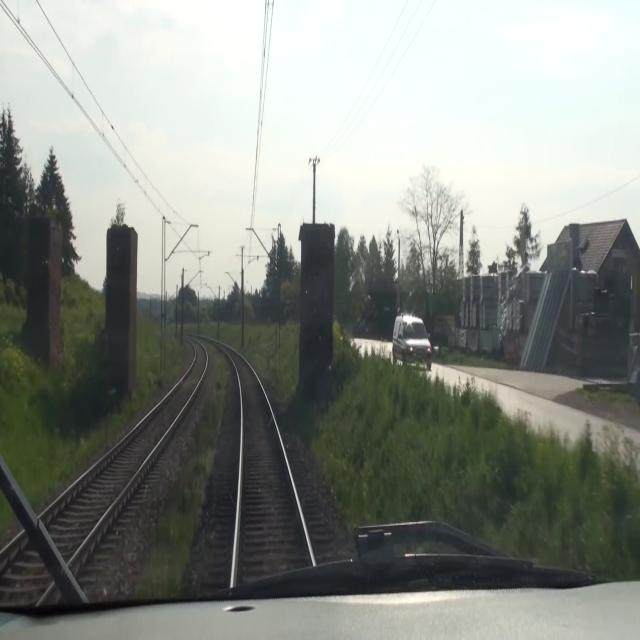rail-track: (0, 342, 205, 607), (227, 349, 312, 588)
